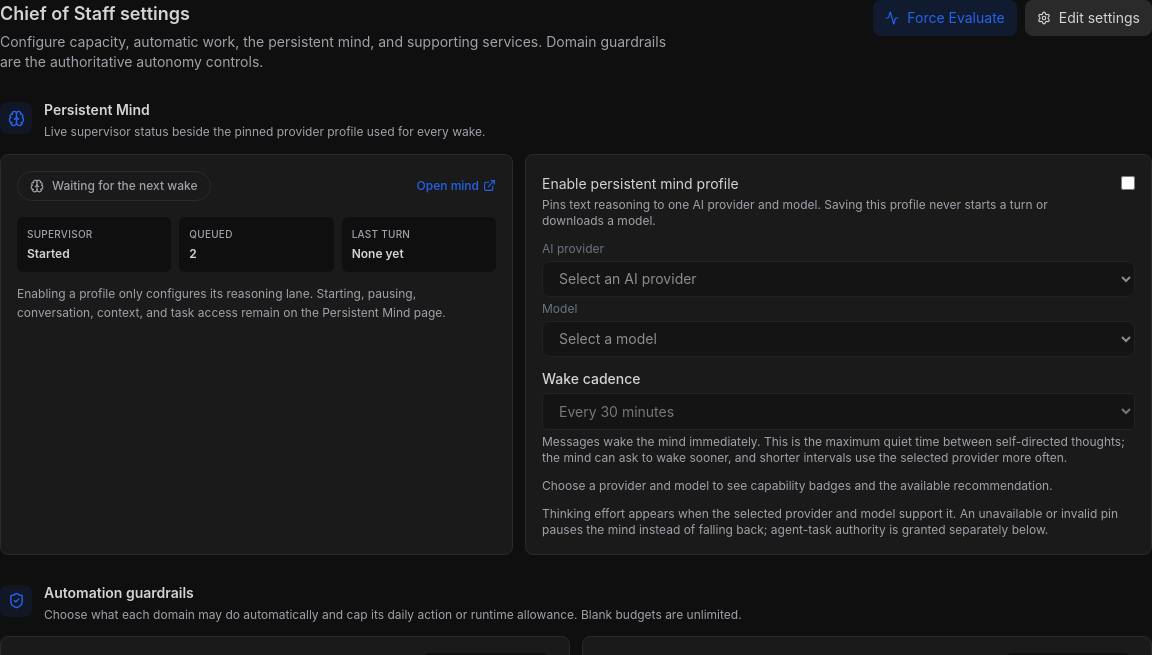
it: Default Avatar Style dropdown › reverts staged avatarStyle dropdown selection when Cancel is clicked
Expected: the text "Waiting for the next wake" is shown, 52,178 -> 198,194
Click the button "Edit settings" at (1088, 18), box 1025,0 -> 1151,36
(page scrolled)
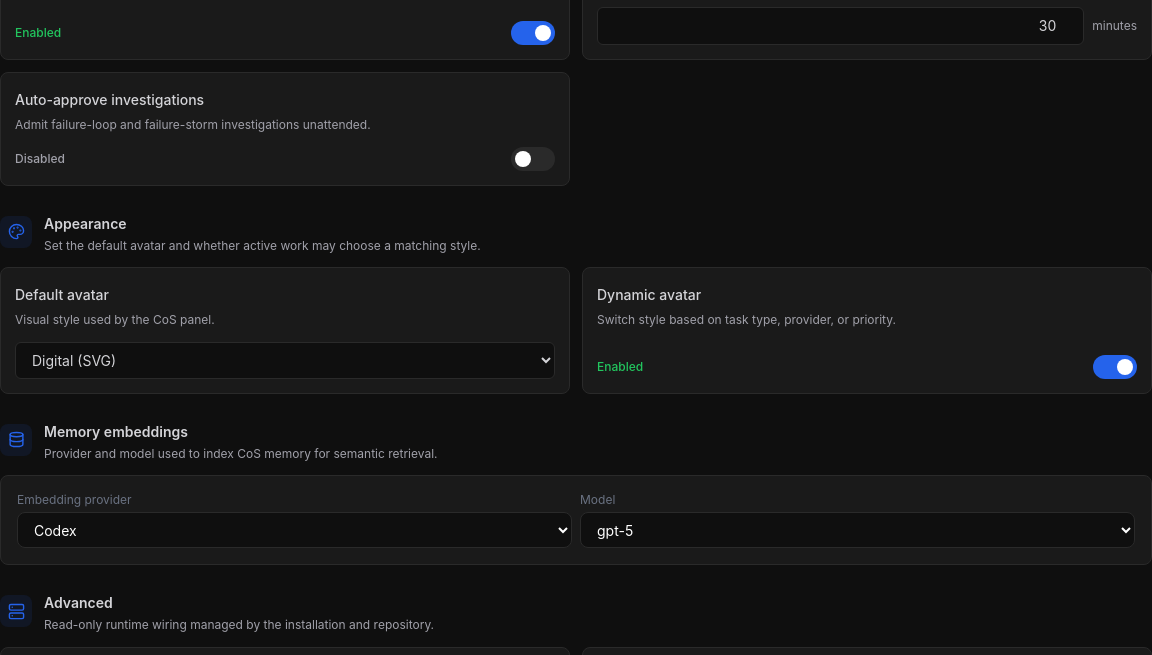
Select "Cyberpunk (3D)" in the dropdown labelled "Default avatar" at (285, 360), box 15,342 -> 555,378
(page scrolled)
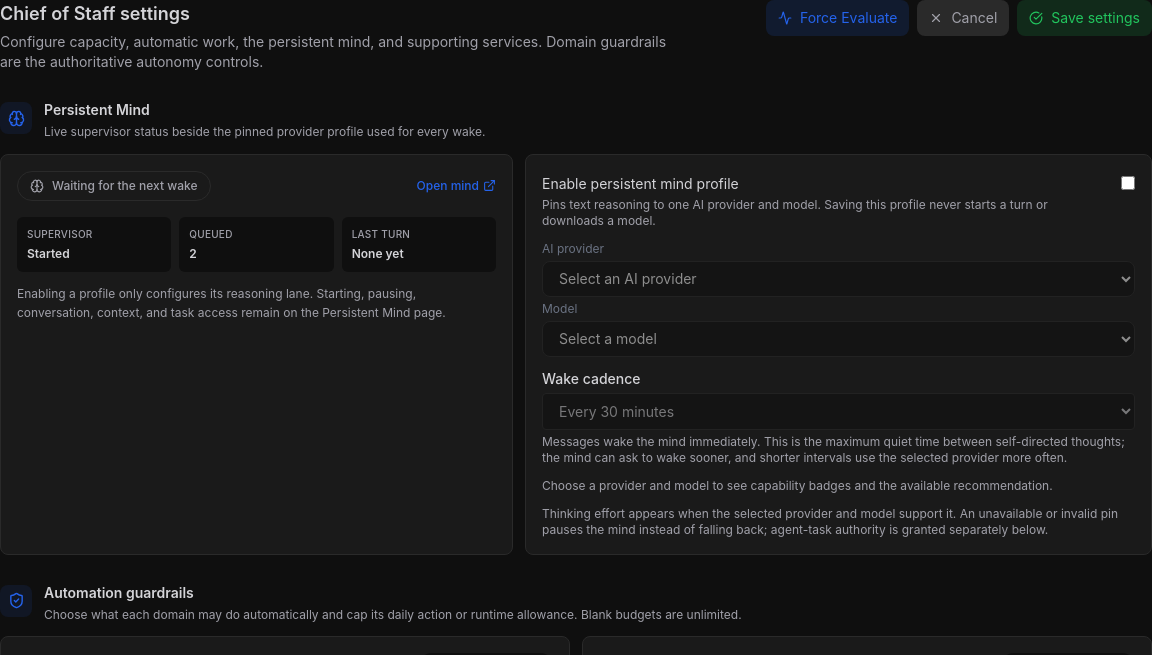
Click the button "Cancel" at (963, 18), box 917,0 -> 1009,36
(page scrolled)
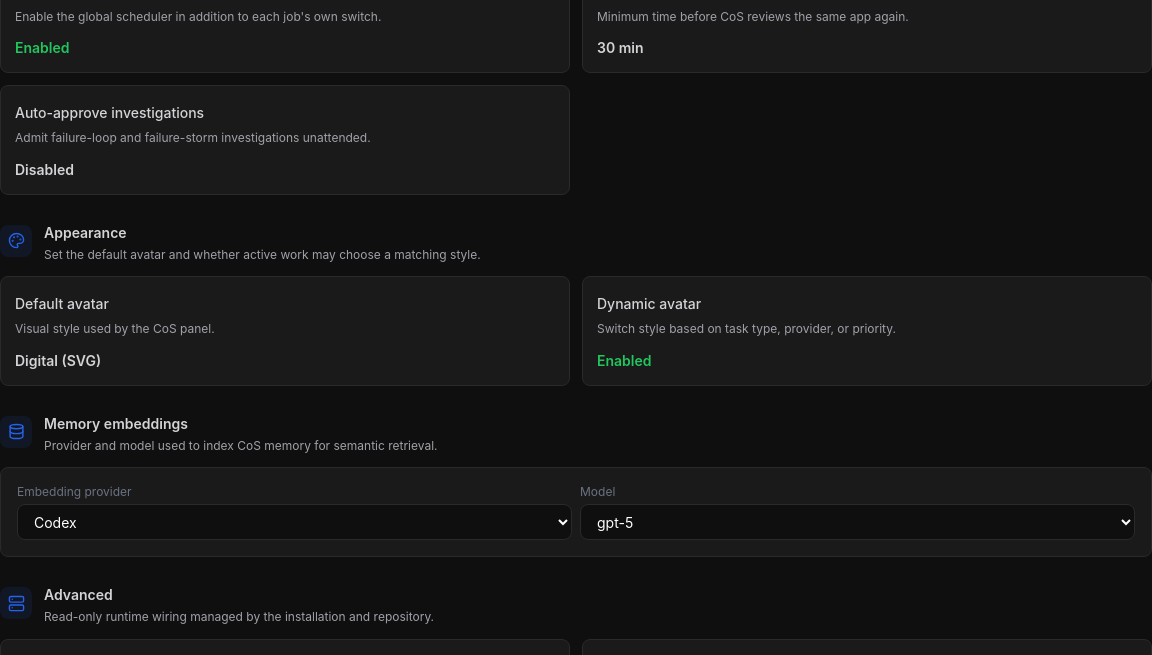
Now the text "Digital (SVG)" is shown, box 15,352 -> 101,368
